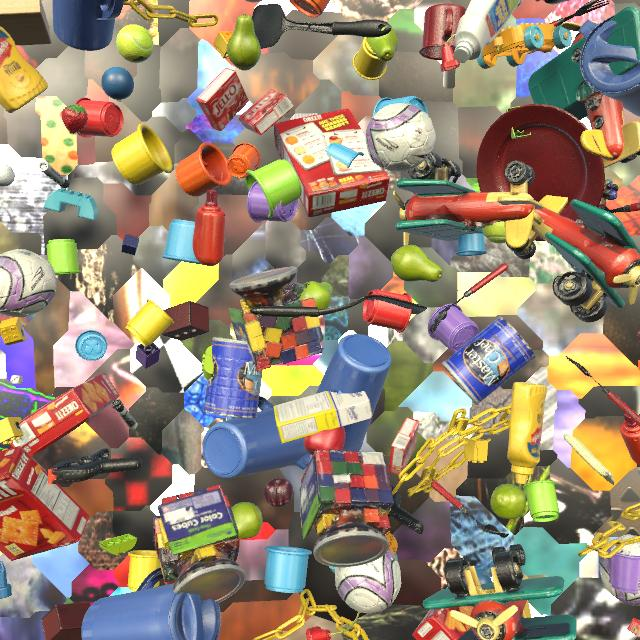ycb_002_master_chef_can: (442, 316, 536, 405), (203, 337, 263, 418)
ycb_003_cracker_box: (274, 108, 390, 217), (0, 446, 89, 561), (9, 372, 120, 457), (412, 587, 474, 640)
ycb_004_sugar_box: (274, 391, 372, 444)
ycb_006_mustard_bottle: (0, 26, 48, 113), (507, 382, 547, 484)
ycb_009_gelatin_box: (196, 68, 249, 131), (239, 89, 294, 135), (389, 417, 419, 476), (627, 618, 640, 638)
ycb_010_potted_meat_can: (126, 0, 128, 1)
ycb_011_banana: (2, 449, 7, 451)
ycb_012_strawberry: (62, 104, 88, 134), (606, 298, 607, 299)
ycb_013_apple: (304, 426, 346, 456)
ycb_015_peach: (239, 320, 254, 337)
ycb_016_pear: (226, 13, 261, 71), (391, 245, 442, 282), (490, 484, 526, 519), (364, 27, 399, 61), (231, 502, 262, 539), (299, 281, 333, 309)
ycb_018_plum: (264, 478, 293, 507)
